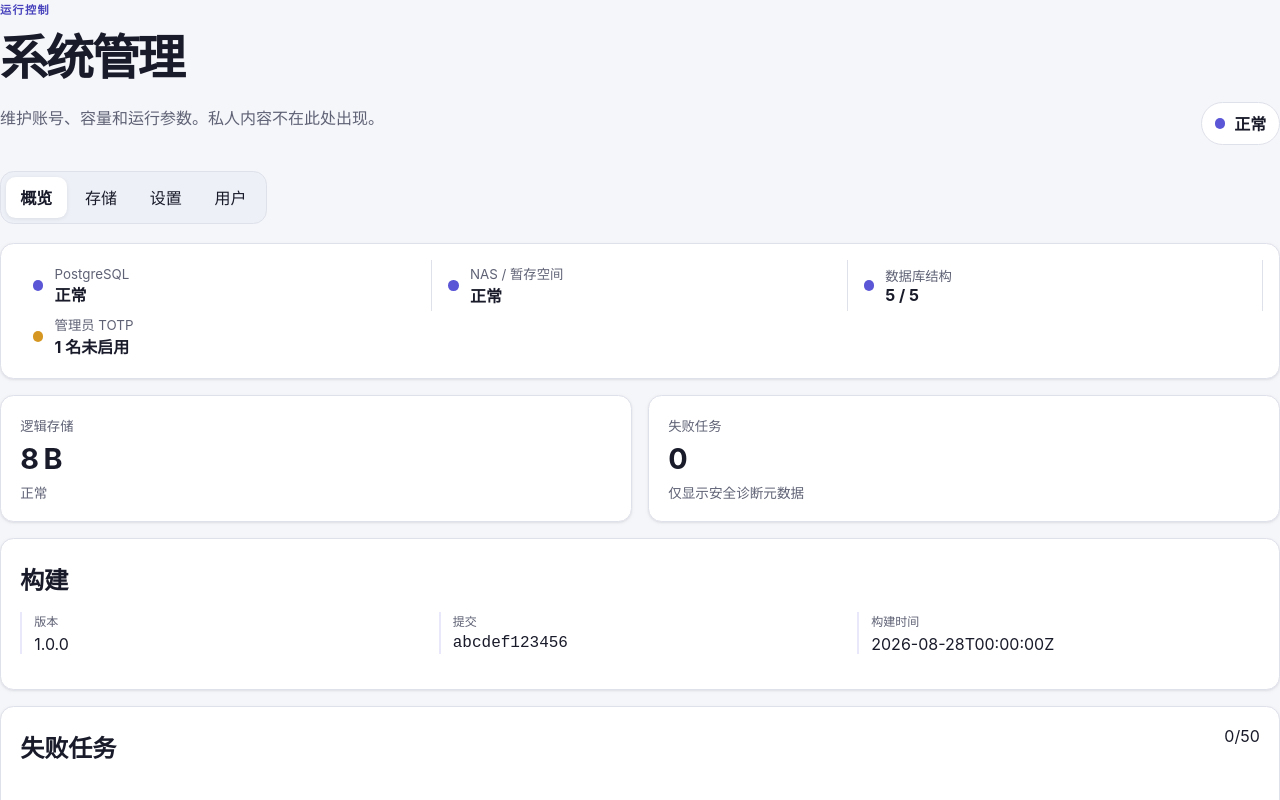
admin operations › localizes a full NAS degradation reason
This screenshot has width=1280, height=800.
Click the button "存储" at point(101, 197), box [71,177,131,218]
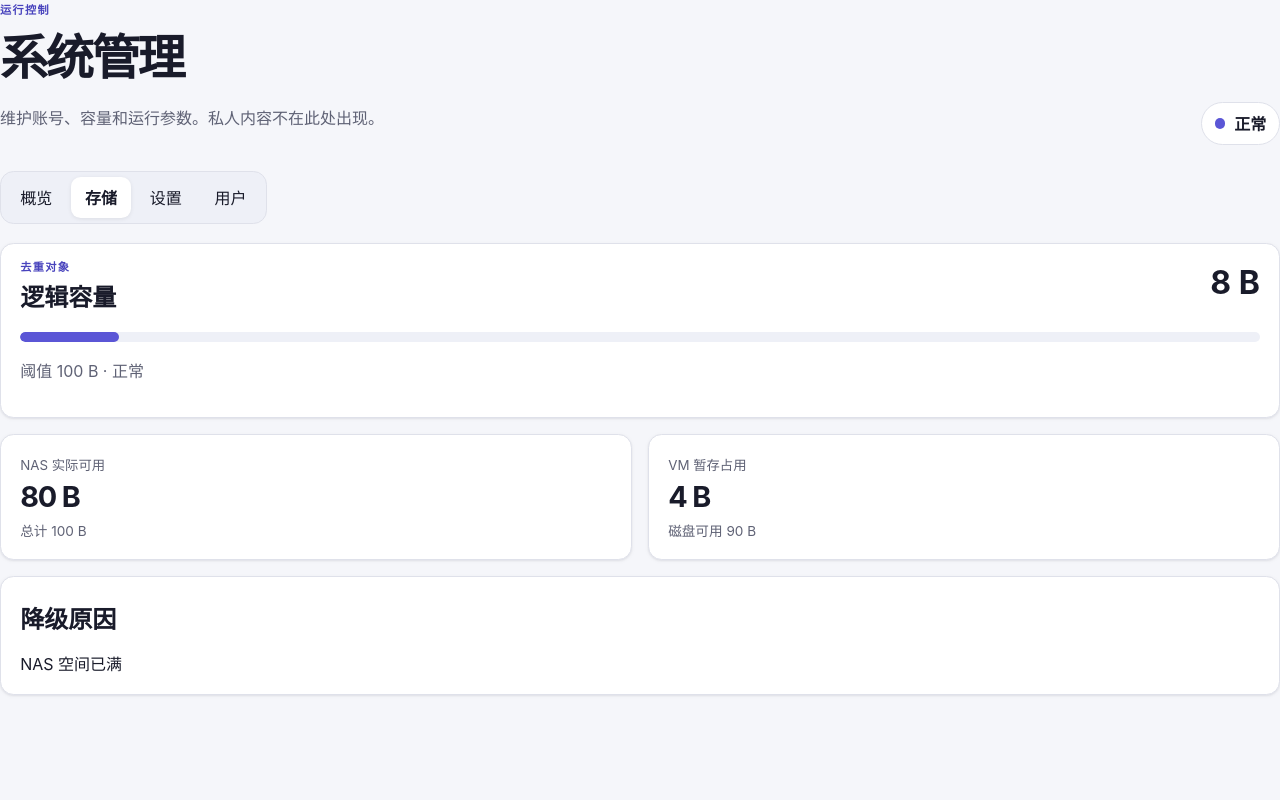
Expected: the text "NAS 空间已满" is shown, [20,654,122,674]
